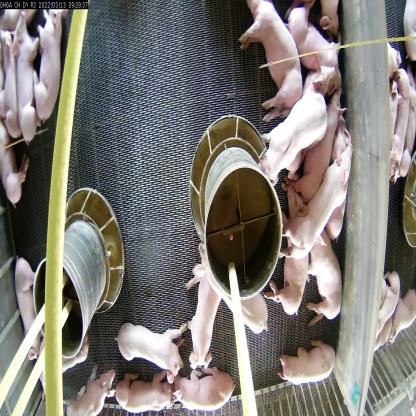Pig: (242, 0, 308, 112), (262, 93, 322, 181), (117, 306, 188, 380), (284, 0, 340, 82), (304, 218, 342, 336), (298, 156, 347, 246), (15, 249, 53, 357), (12, 21, 46, 135), (190, 267, 222, 373), (214, 270, 267, 331), (283, 342, 337, 400), (40, 6, 65, 116), (394, 60, 414, 196), (0, 118, 34, 198), (67, 355, 111, 415), (182, 362, 230, 415), (119, 375, 177, 415), (0, 26, 18, 138), (290, 215, 306, 317)
